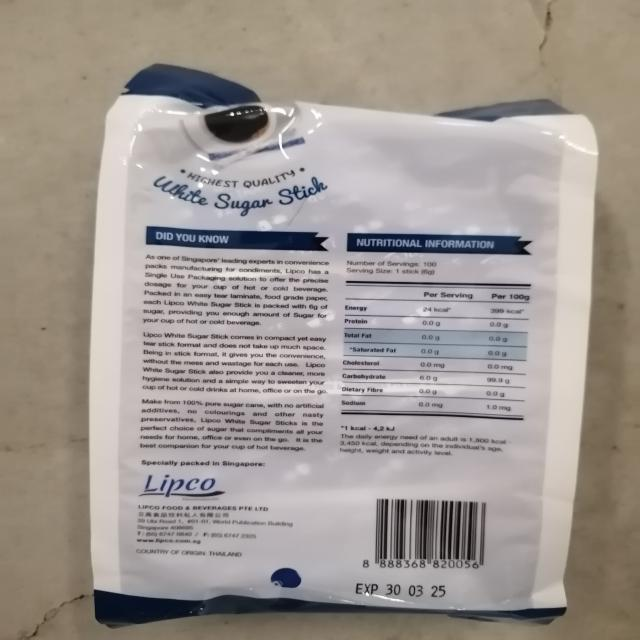object_name: (103, 94, 568, 614)
